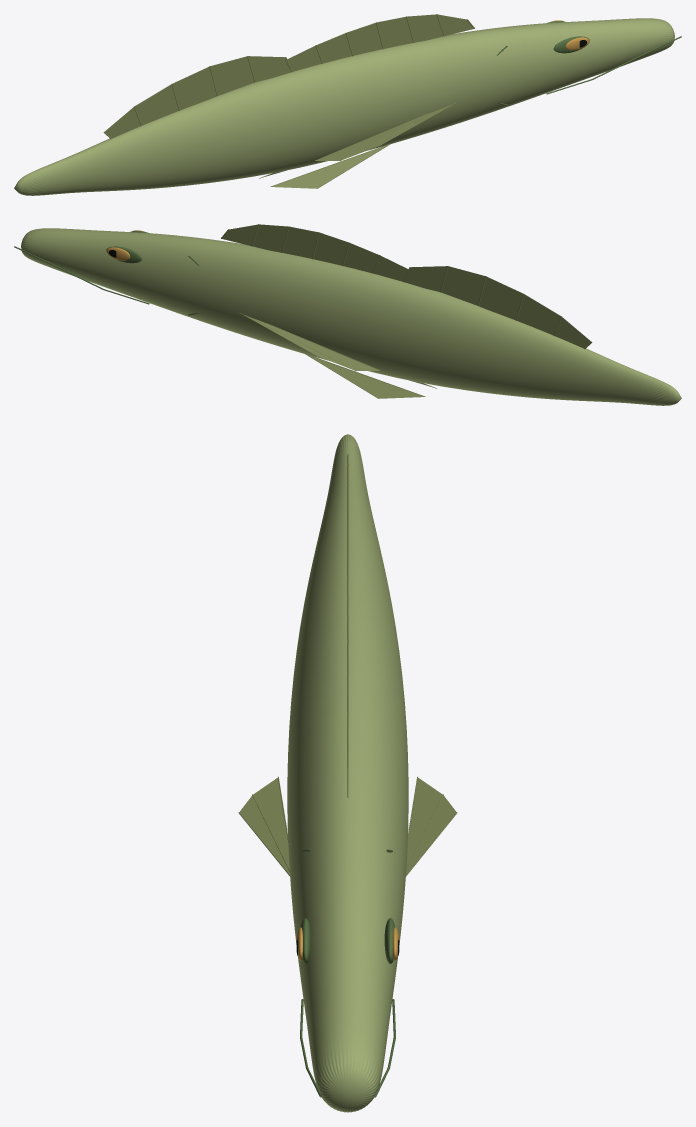
The model's file is SM_PikeBody.fbx.
3 views of the same model, one above another, from view 1: azimuth 30°, elevation 25°; view 2: azimuth 150°, elevation 25°; view 3: azimuth 270°, elevation 25° (orthographic). The views are drawn at different scales.
Parts seen in each view (by area): view 1: SM_PikeBody.001; view 2: SM_PikeBody.001; view 3: SM_PikeBody.001.
Boxes of the visible parts, bbox=[...] form: SM_PikeBody.001: bbox=[14, 14, 681, 195]; SM_PikeBody.001: bbox=[14, 224, 681, 405]; SM_PikeBody.001: bbox=[238, 434, 457, 1112].
Bounding box in the file's own units: 65.52 × 9.4 × 13.19.
